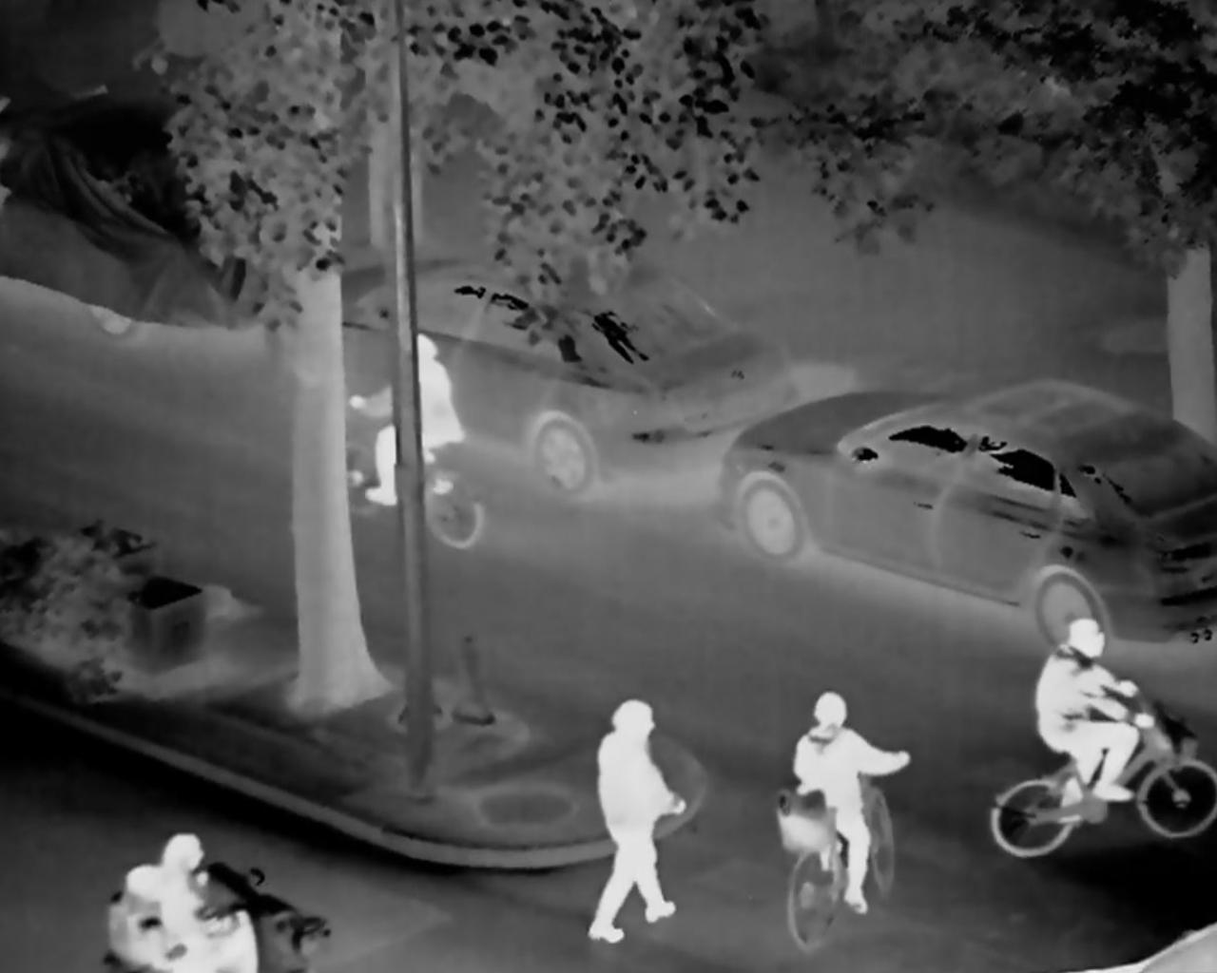person: (791, 694, 918, 927), (1028, 614, 1144, 837), (588, 696, 690, 945), (355, 319, 471, 521), (113, 812, 236, 973)
